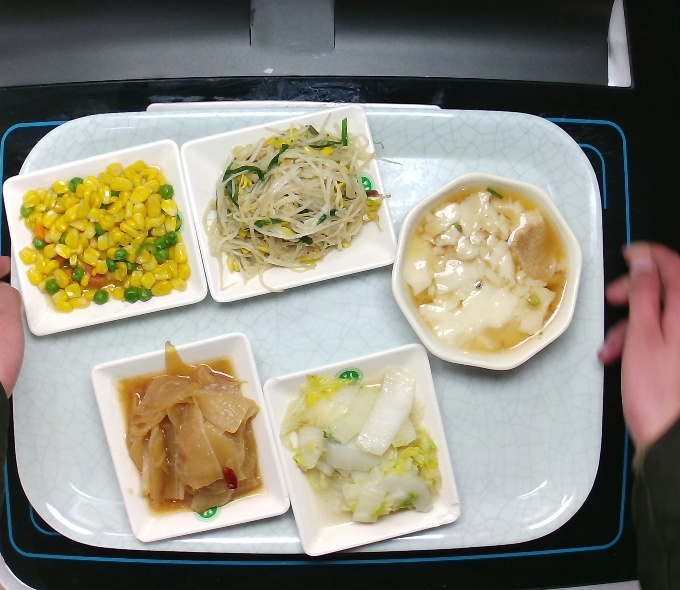wcq-DaBaiCai: (275, 366, 446, 529)
wcq-DongGua: (110, 339, 270, 520)
wcq-DouYa: (198, 112, 406, 296)
wcq-ShuiZhengDan: (397, 181, 575, 359)
wcq-TianMiTianDou: (16, 158, 198, 315)
